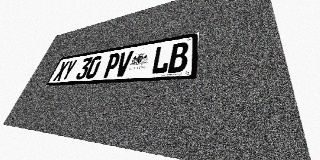0: (84, 55, 103, 79)
3: (75, 57, 93, 80)
B: (168, 41, 189, 73)
L: (150, 44, 171, 74)
P: (102, 52, 121, 78)
V: (114, 50, 134, 77)
X: (53, 61, 70, 81)
Y: (60, 59, 78, 81)
